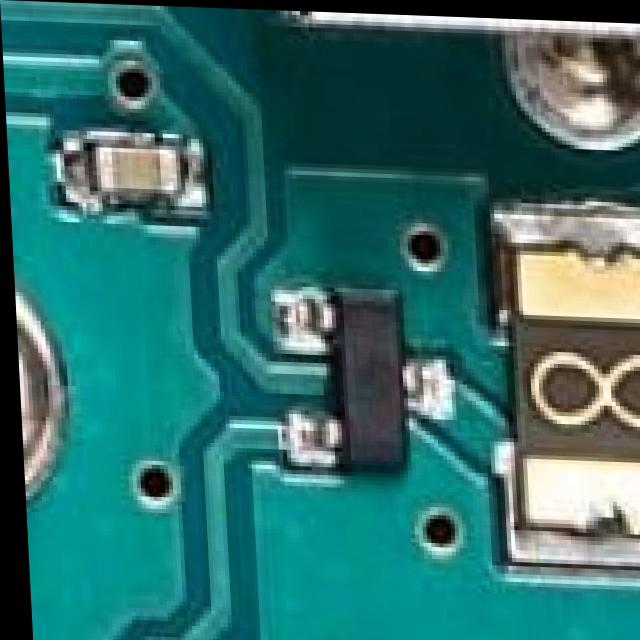capacitor: (69, 86, 209, 232)
clock: (10, 252, 115, 579)
connector: (252, 7, 640, 31)
resistor: (491, 186, 640, 563)
switch: (290, 256, 424, 494)
